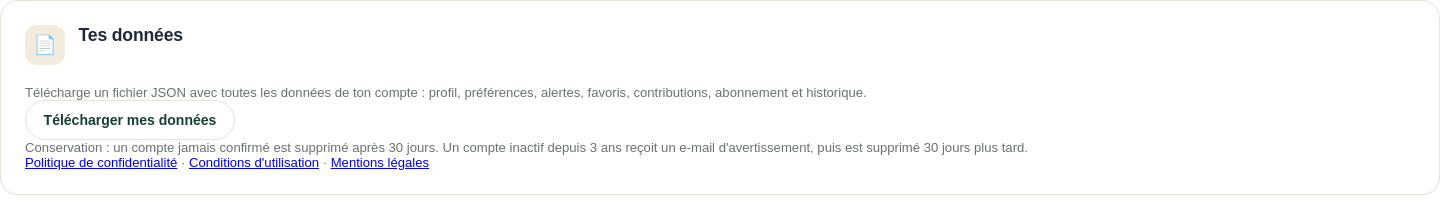
Test case: MyDataCard › télécharge l'export JSON avec le jeton de connexion
Expected: the text "supprimé après 30 jours" is shown, [25, 140, 1028, 155]
Click the button "Télécharger mes données". click: point(130, 120)
box: [25, 100, 235, 140]
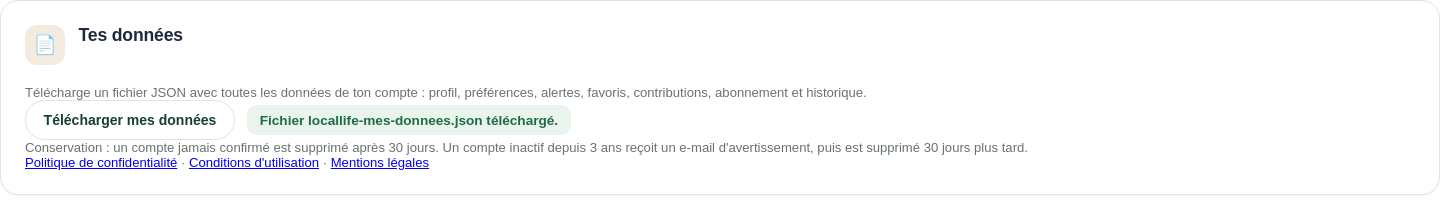
Result: the text "Fichier locallife-mes-donnees.json téléchargé." is shown at [247, 105, 571, 135]
